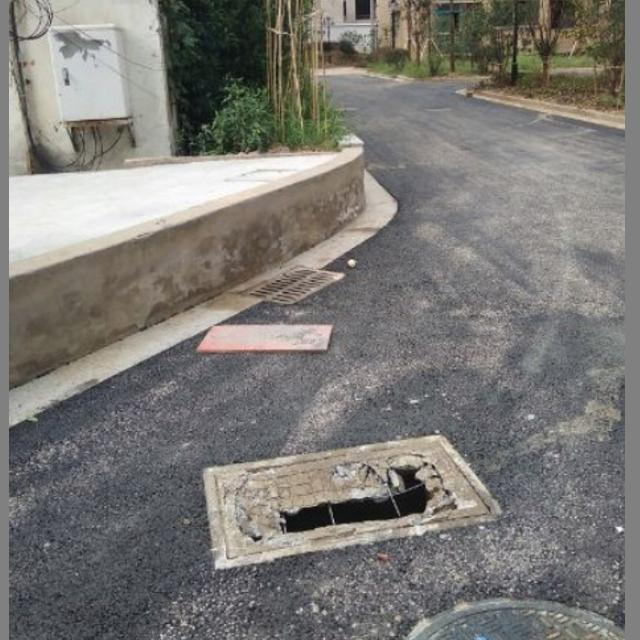broke: (200, 432, 502, 569)
good: (377, 599, 625, 640)
